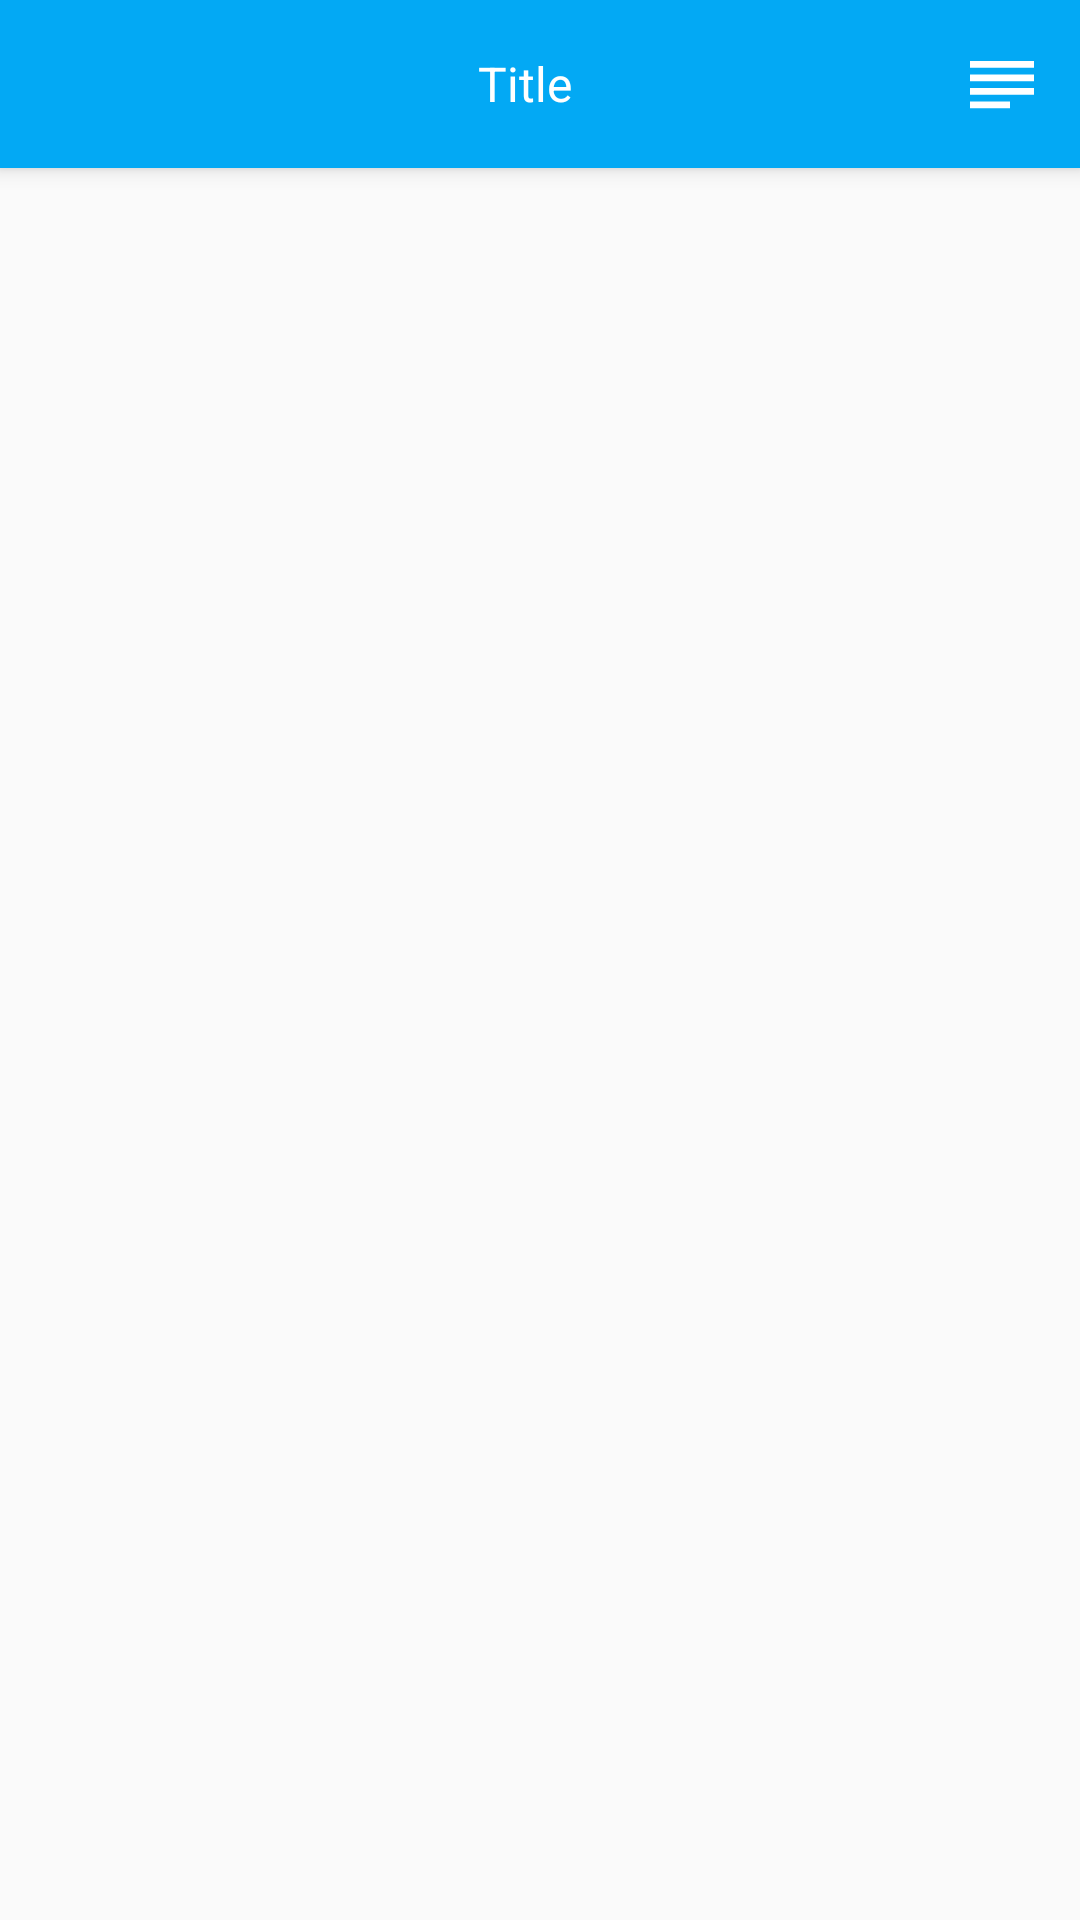

Locate icon controls on the screen. Image size 1080px x 1920px, boxes as (x1,y1,x2,y2).
subject: (970,61,1034,109)
